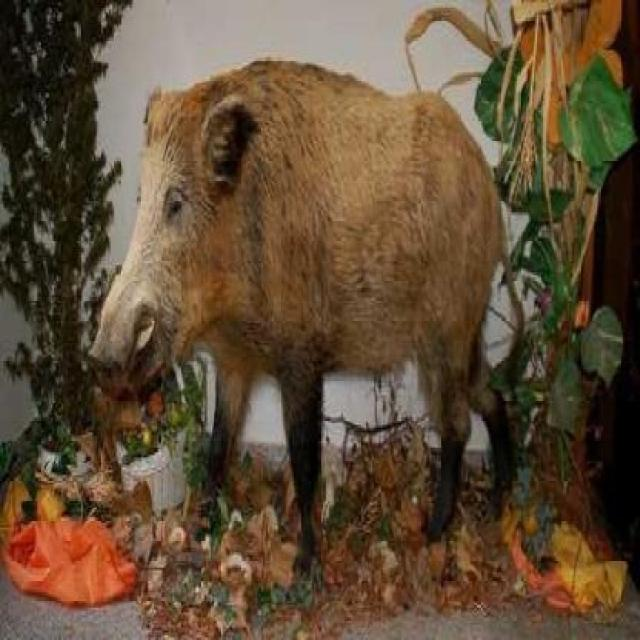Boar: (63, 25, 522, 568)
